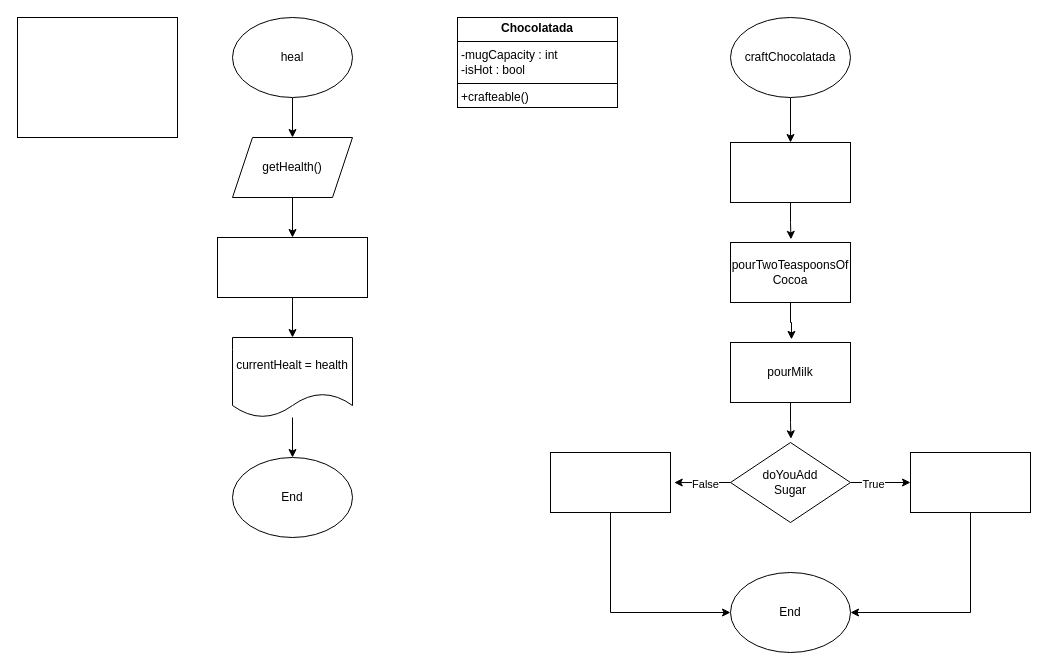
Image size: 1048x670. Some labels were removed from this diagram. Each missing label, with the centre of its shape:
"character -health : int -name : string -isAlive : bool +recieveDamage() +heal()" goes at [97,77].
"goToHell" goes at [970,482].
"grabMug" goes at [790,172].
"health = currentHealth + healingAmount" goes at [292,267].
"Stir" goes at [610,482].
